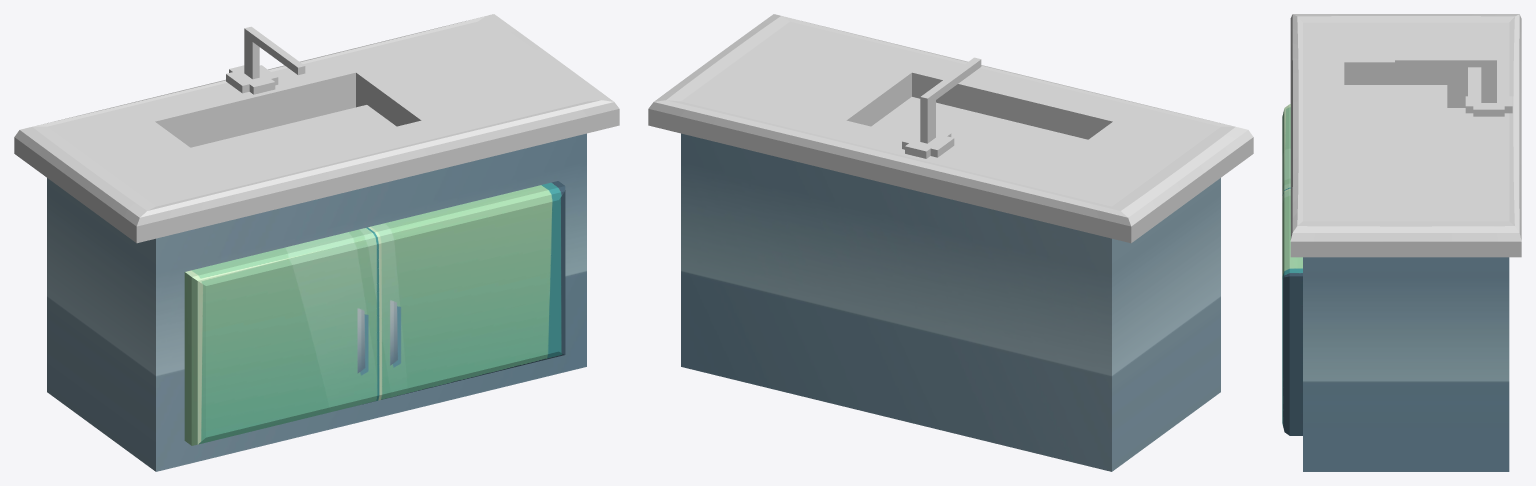
File: scene4_sink.glb
The picture shows the model from 3 angles, left to right: view 1: azimuth 30°, elevation 25°; view 2: azimuth 150°, elevation 25°; view 3: azimuth 270°, elevation 25°; orthographic projection. The views are drawn at different scales.
Visible parts, largest first — view 1: SINK; view 2: SINK; view 3: SINK.
Boxes of the visible parts, bbox=[...] form: SINK: bbox=[14, 14, 619, 471]; SINK: bbox=[648, 14, 1253, 471]; SINK: bbox=[1282, 14, 1521, 471].
Bounding box in the file's own units: 1.9 × 1.21 × 0.8653.
Materials: 3 (2 with a texture image).
